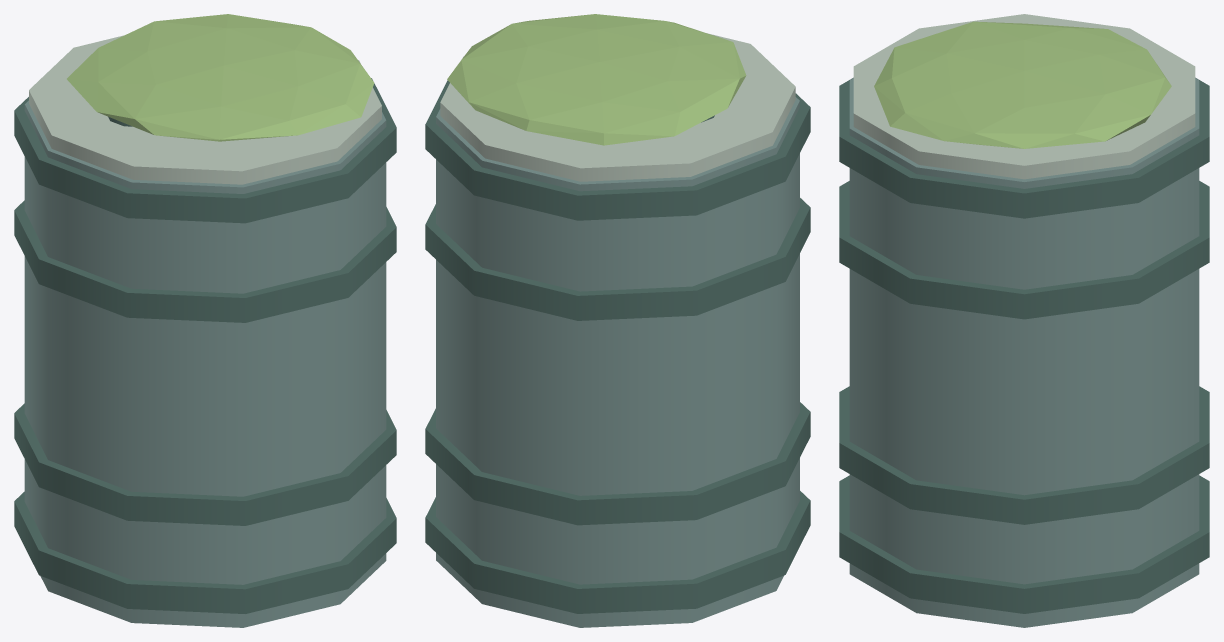
The model's file is cover-barrel-mossy.glb.
3 renders of one model, left to right at view 1: azimuth 30°, elevation 25°; view 2: azimuth 150°, elevation 25°; view 3: azimuth 270°, elevation 25°, orthographic.
Parts seen in each view (by area): view 1: cover-barrel-kit-mossy-metal, cover-barrel-kit-mossy-dark, cover-barrel-kit-mossy-top, cover-barrel-kit-mossy-light; view 2: cover-barrel-kit-mossy-metal, cover-barrel-kit-mossy-dark, cover-barrel-kit-mossy-top, cover-barrel-kit-mossy-light; view 3: cover-barrel-kit-mossy-metal, cover-barrel-kit-mossy-dark, cover-barrel-kit-mossy-top, cover-barrel-kit-mossy-light.
Boxes of the visible parts, <box> form: cover-barrel-kit-mossy-metal: <box>24,100,386,627</box>; cover-barrel-kit-mossy-dark: <box>14,78,396,613</box>; cover-barrel-kit-mossy-top: <box>67,14,374,141</box>; cover-barrel-kit-mossy-light: <box>29,35,381,184</box>; cover-barrel-kit-mossy-metal: <box>436,97,799,627</box>; cover-barrel-kit-mossy-dark: <box>425,80,810,613</box>; cover-barrel-kit-mossy-top: <box>447,14,746,145</box>; cover-barrel-kit-mossy-light: <box>440,33,795,181</box>; cover-barrel-kit-mossy-metal: <box>849,78,1199,627</box>; cover-barrel-kit-mossy-dark: <box>839,77,1209,613</box>; cover-barrel-kit-mossy-top: <box>874,21,1171,148</box>; cover-barrel-kit-mossy-light: <box>853,14,1195,179</box>.
Size of the model in its own units: 0.91 by 1.26 by 0.8655.
